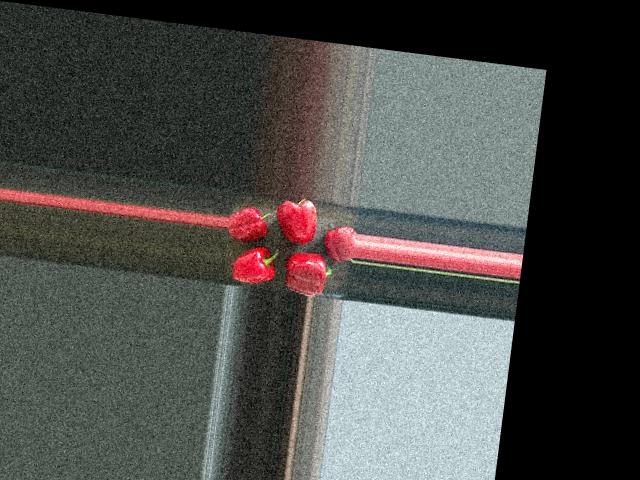bell_pepper: (320, 217, 357, 265)
